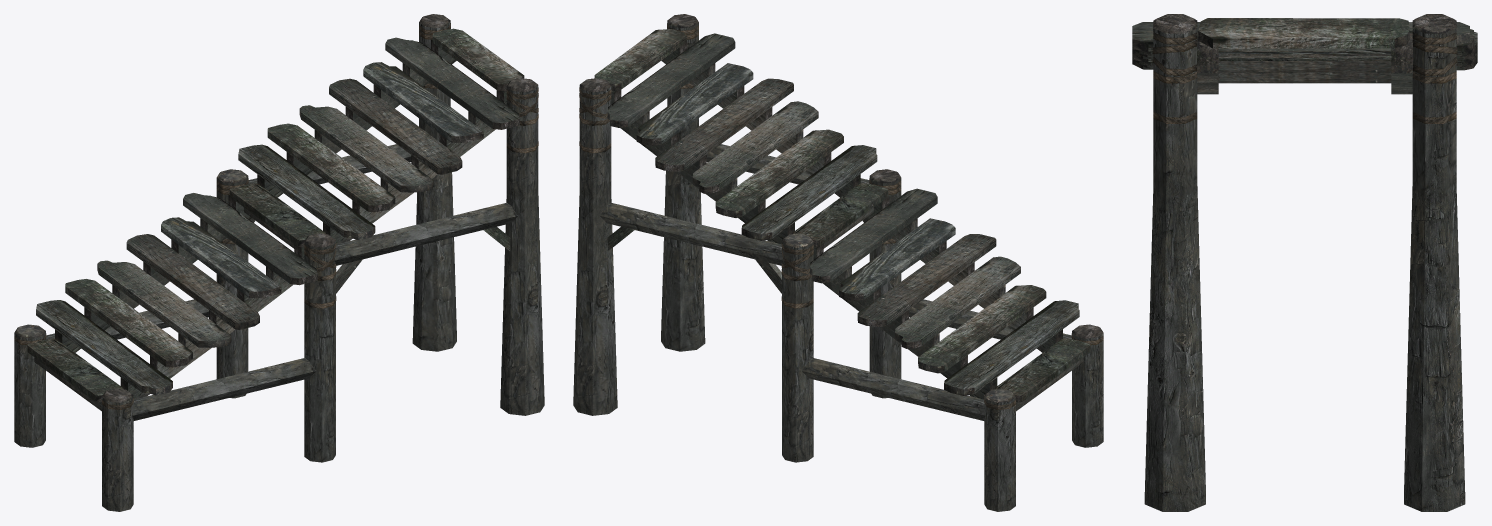
File: bridge2.obj
3 renders of one model, left to right at view 1: azimuth 30°, elevation 25°; view 2: azimuth 150°, elevation 25°; view 3: azimuth 270°, elevation 25°, orthographic. The views are drawn at different scales.
Visible parts, largest first — view 1: nifid_16_matrix; view 2: nifid_16_matrix; view 3: nifid_16_matrix.
Part boxes in pixels (<box>): nifid_16_matrix: <box>14,14,544,511</box>; nifid_16_matrix: <box>573,14,1103,511</box>; nifid_16_matrix: <box>1132,14,1477,511</box>.
Bounding box in the file's own units: 558 × 390 × 256.
Materials: 3 (3 with a texture image).
